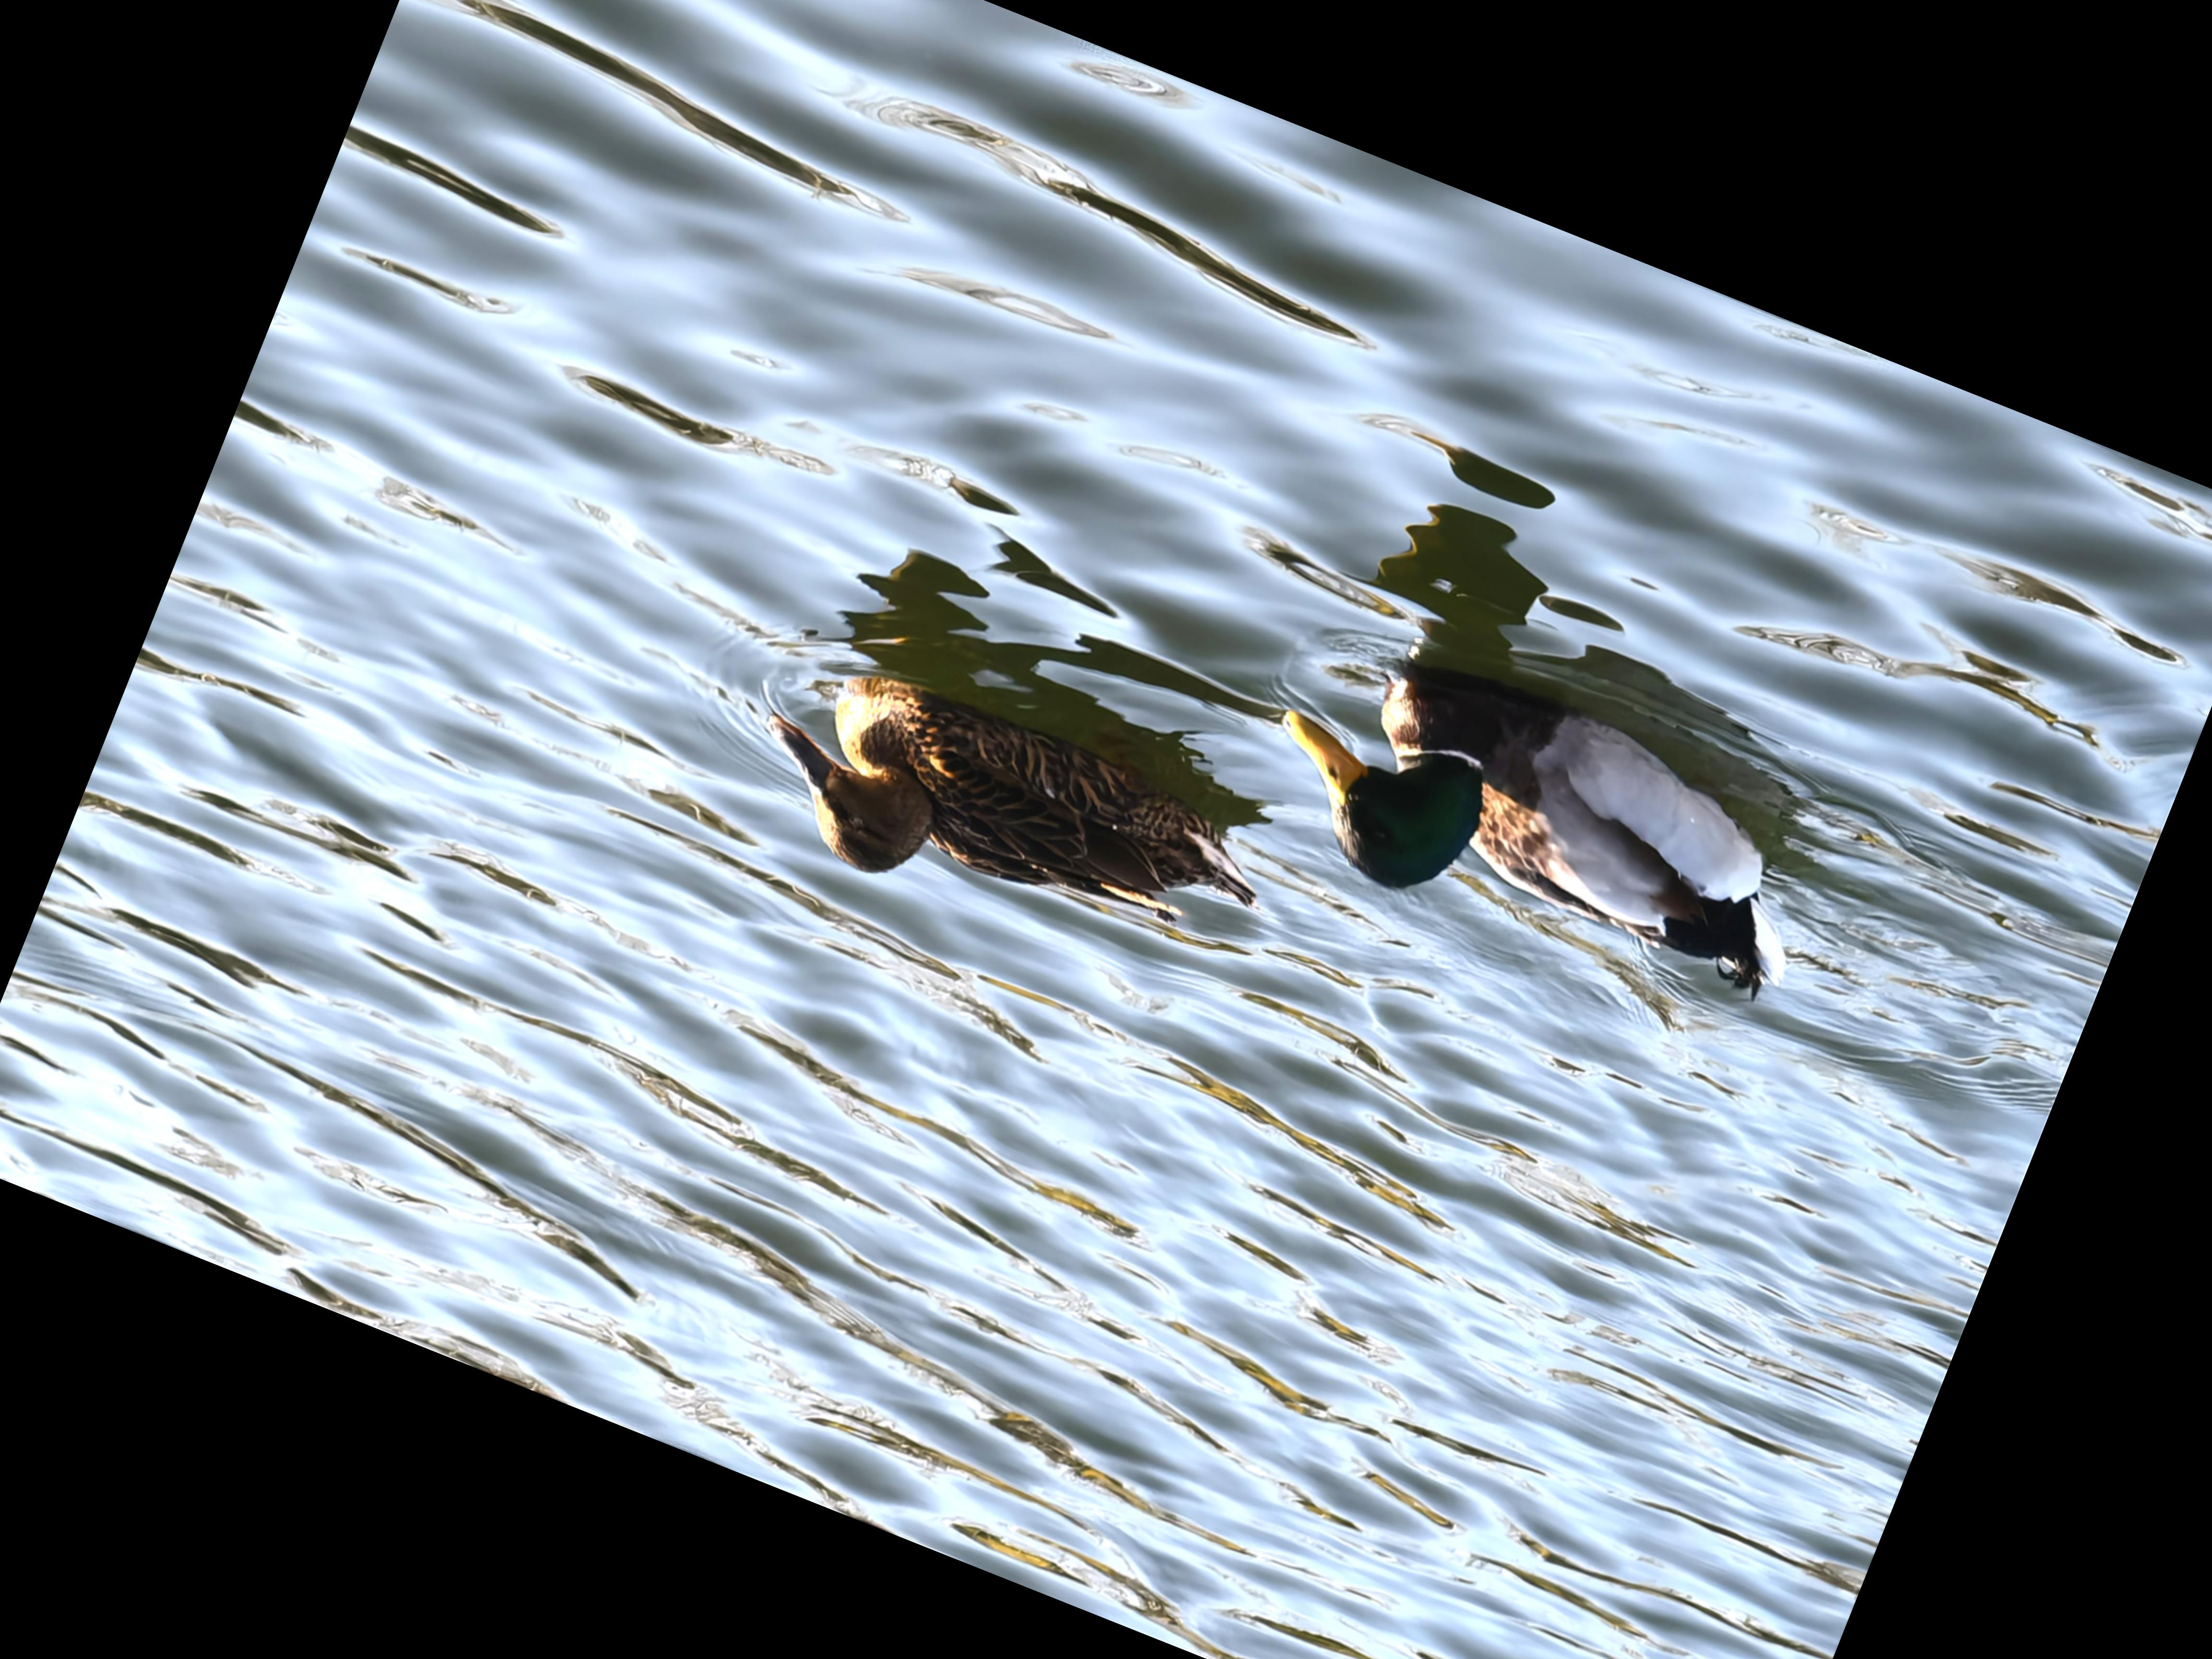duck: (1216, 575, 1879, 1072), (714, 603, 1308, 1030)
